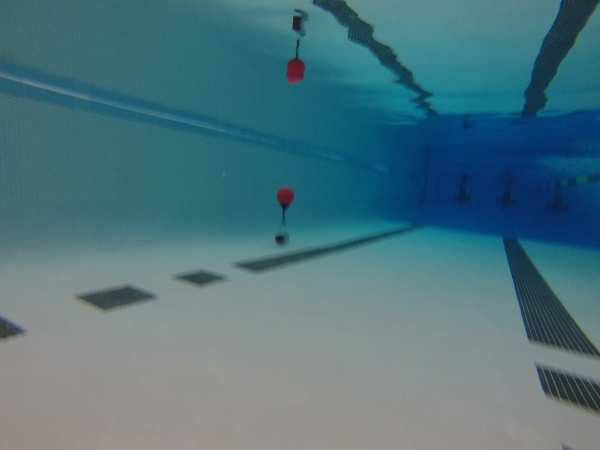buoy_red: (275, 184, 295, 213)
